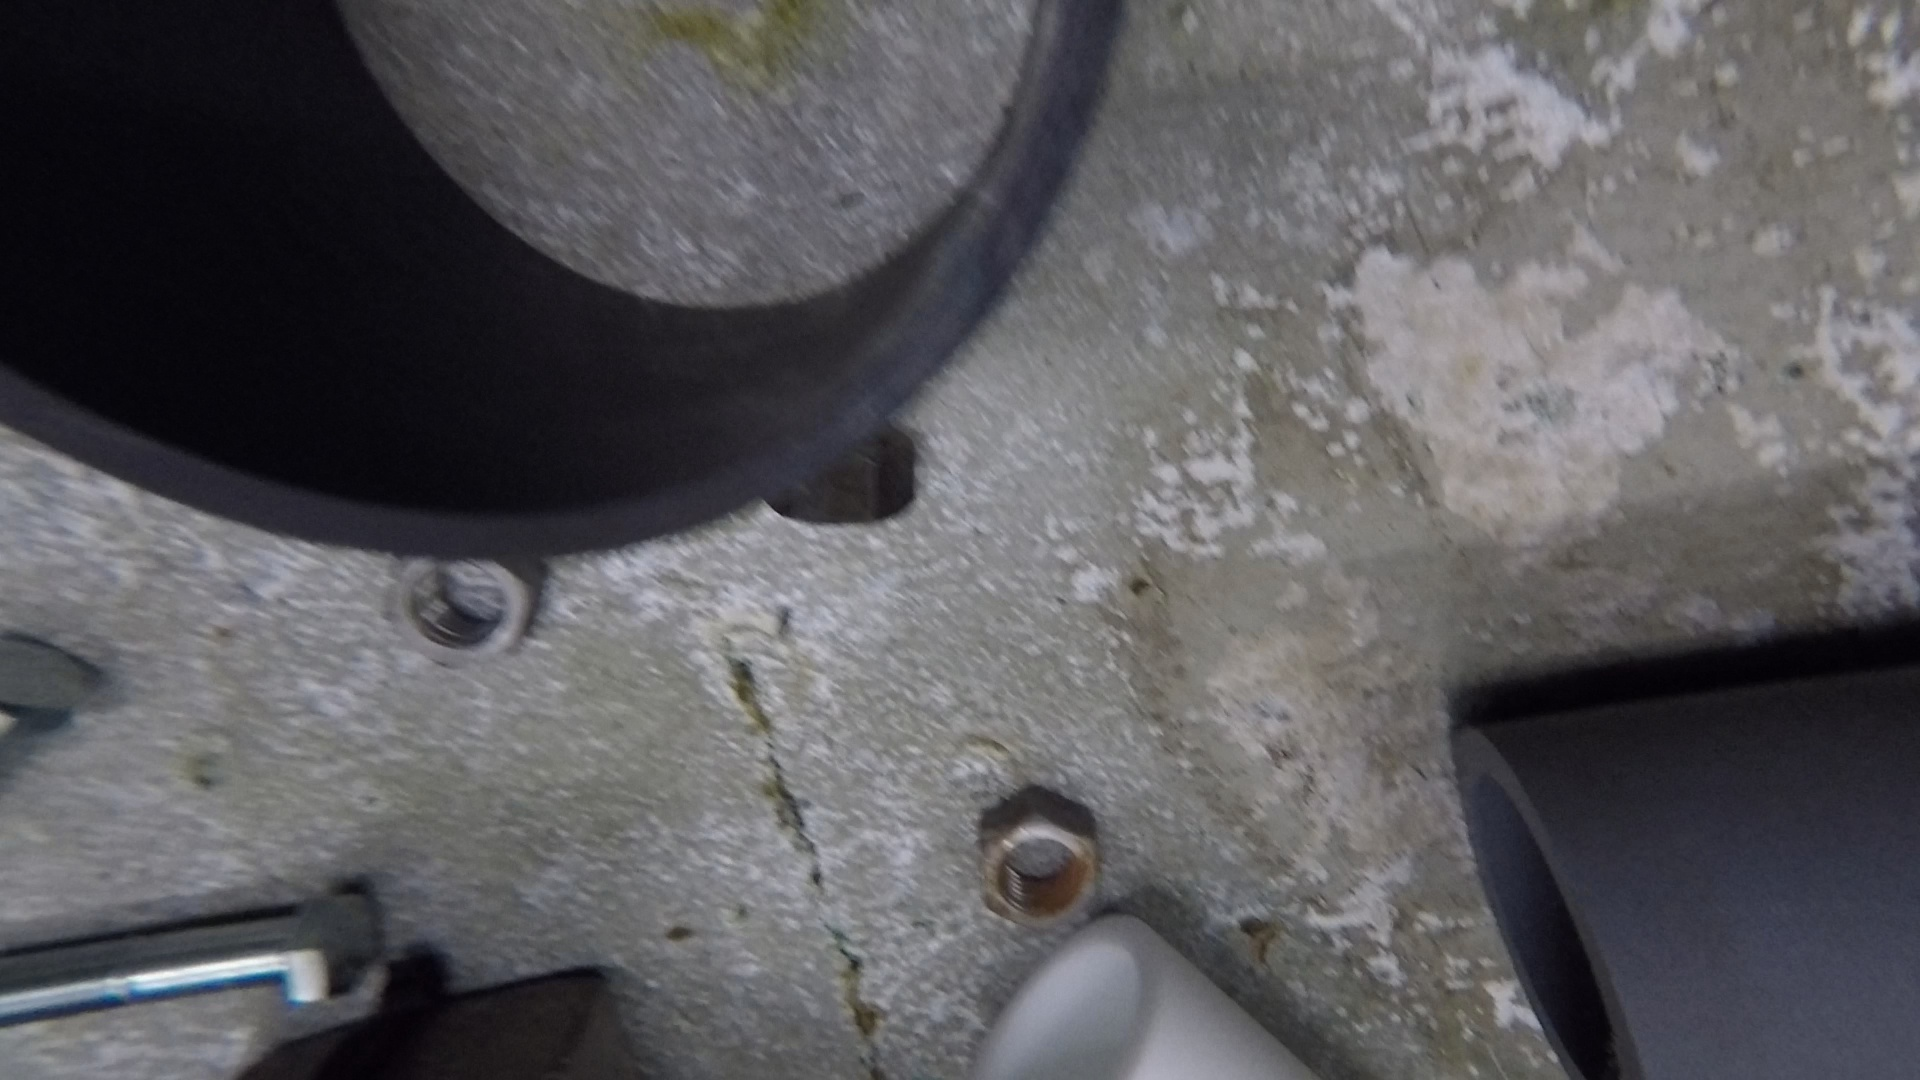bolt: (1, 884, 384, 1029), (1, 633, 88, 735)
led_block: (233, 963, 659, 1080)
nut: (386, 554, 549, 671), (978, 787, 1098, 932), (764, 429, 918, 525)
pipe: (3, 1, 1120, 556), (1451, 636, 1920, 1076), (969, 910, 1327, 1080)
